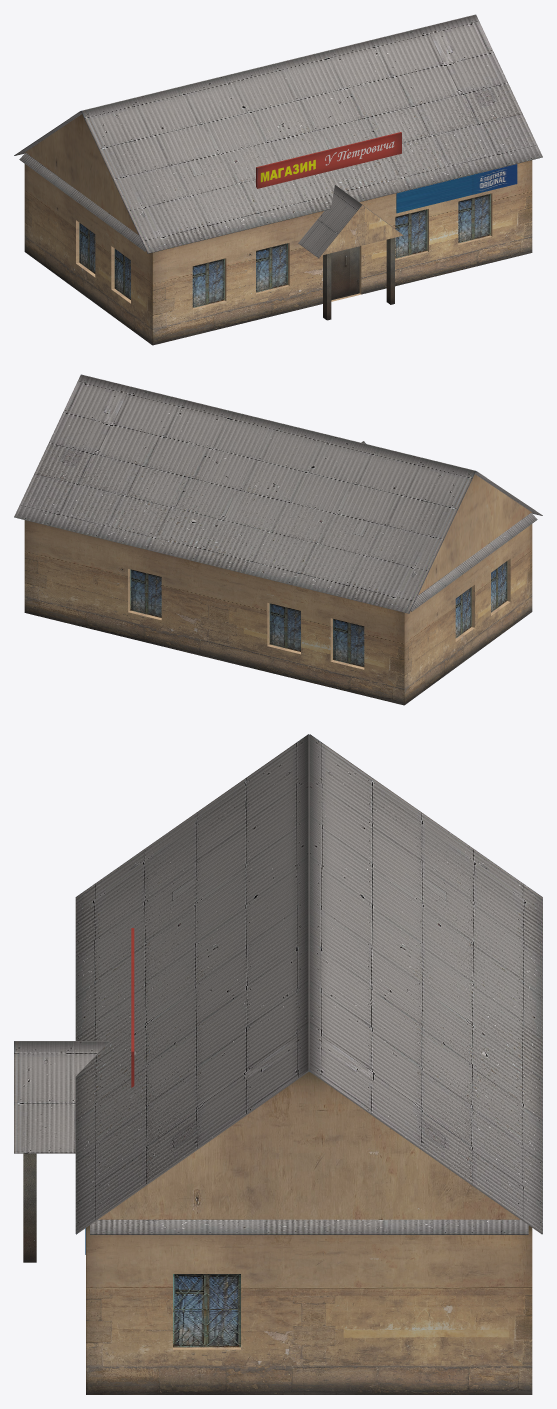
The model's file is r402_tushnolobovo_mag_petrovich.FBX.
3 renders of one model, top to bottom at view 1: azimuth 30°, elevation 25°; view 2: azimuth 150°, elevation 25°; view 3: azimuth 270°, elevation 25°, orthographic. The views are drawn at different scales.
Visible parts, largest first — view 1: r402_tushnolobovo_mag_petrovich; view 2: r402_tushnolobovo_mag_petrovich; view 3: r402_tushnolobovo_mag_petrovich.
Part boxes in pixels (bbox=[...]): r402_tushnolobovo_mag_petrovich: bbox=[14, 14, 542, 345]; r402_tushnolobovo_mag_petrovich: bbox=[14, 374, 542, 705]; r402_tushnolobovo_mag_petrovich: bbox=[14, 734, 542, 1394].
Size of the model in its own units: 1248 by 830 by 572.
